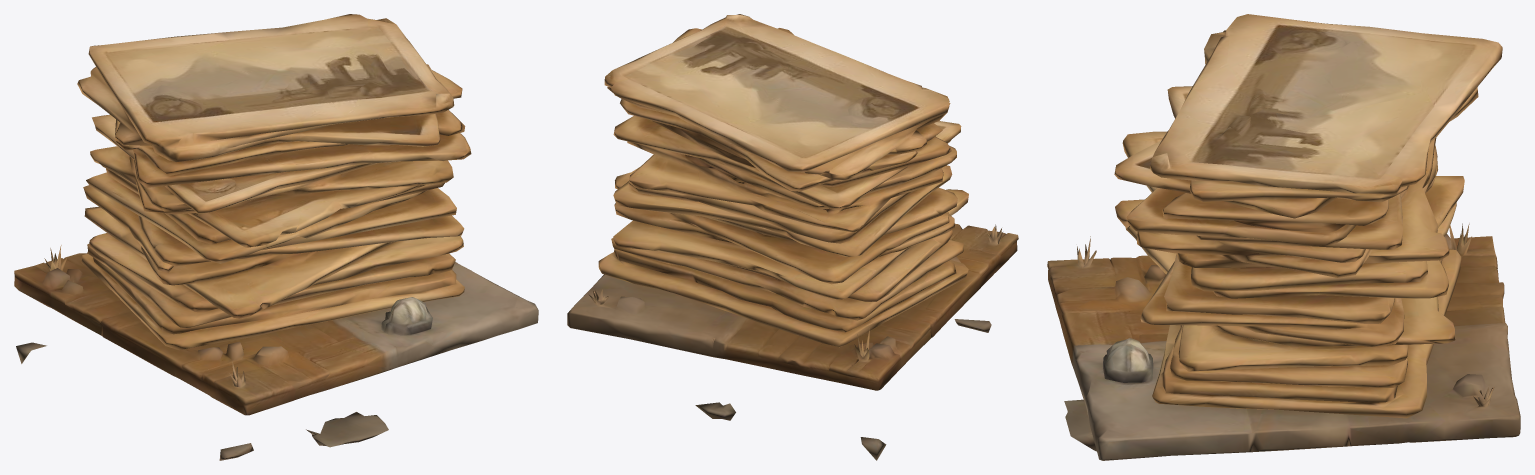
File: item_photographs.glb
The picture shows the model from 3 angles, left to right: view 1: azimuth 30°, elevation 25°; view 2: azimuth 150°, elevation 25°; view 3: azimuth 270°, elevation 25°; orthographic projection. The views are drawn at different scales.
Visible parts, largest first — view 1: tripo_node_3ee9e836-c8bd-4223-b1b0-73e97537bb3f; view 2: tripo_node_3ee9e836-c8bd-4223-b1b0-73e97537bb3f; view 3: tripo_node_3ee9e836-c8bd-4223-b1b0-73e97537bb3f.
Boxes of the visible parts, <box> form: tripo_node_3ee9e836-c8bd-4223-b1b0-73e97537bb3f: <box>14,14,538,460</box>; tripo_node_3ee9e836-c8bd-4223-b1b0-73e97537bb3f: <box>567,14,1018,460</box>; tripo_node_3ee9e836-c8bd-4223-b1b0-73e97537bb3f: <box>1047,14,1520,460</box>.
Bounding box in the file's own units: 1 × 0.8024 × 0.9723.
1 material, 1 textured.
